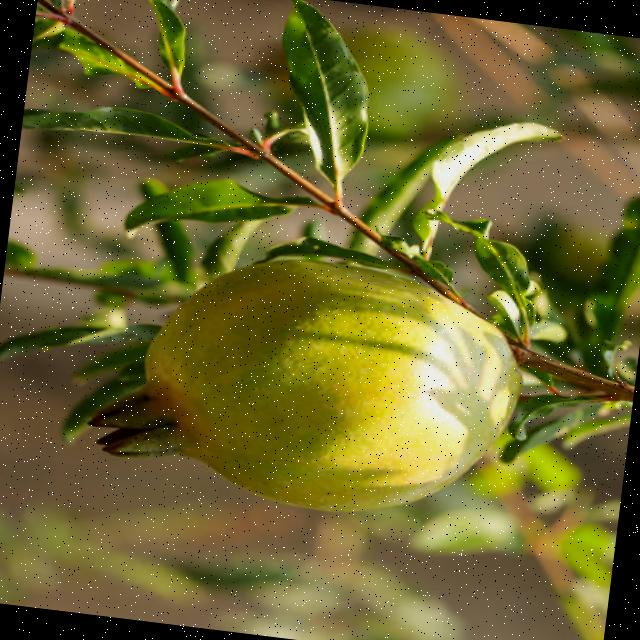Unripe: (79, 232, 540, 531)
